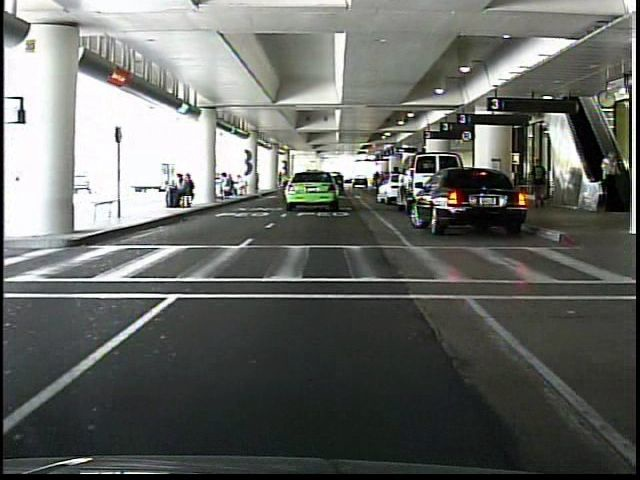person: (597, 146, 621, 210), (528, 154, 551, 213)
